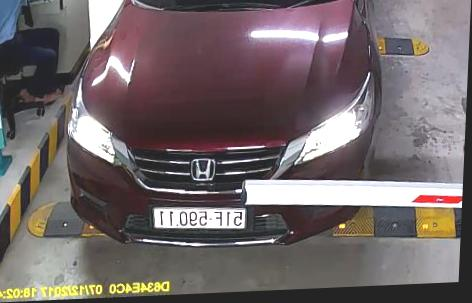License_Plate: (148, 196, 253, 234)
